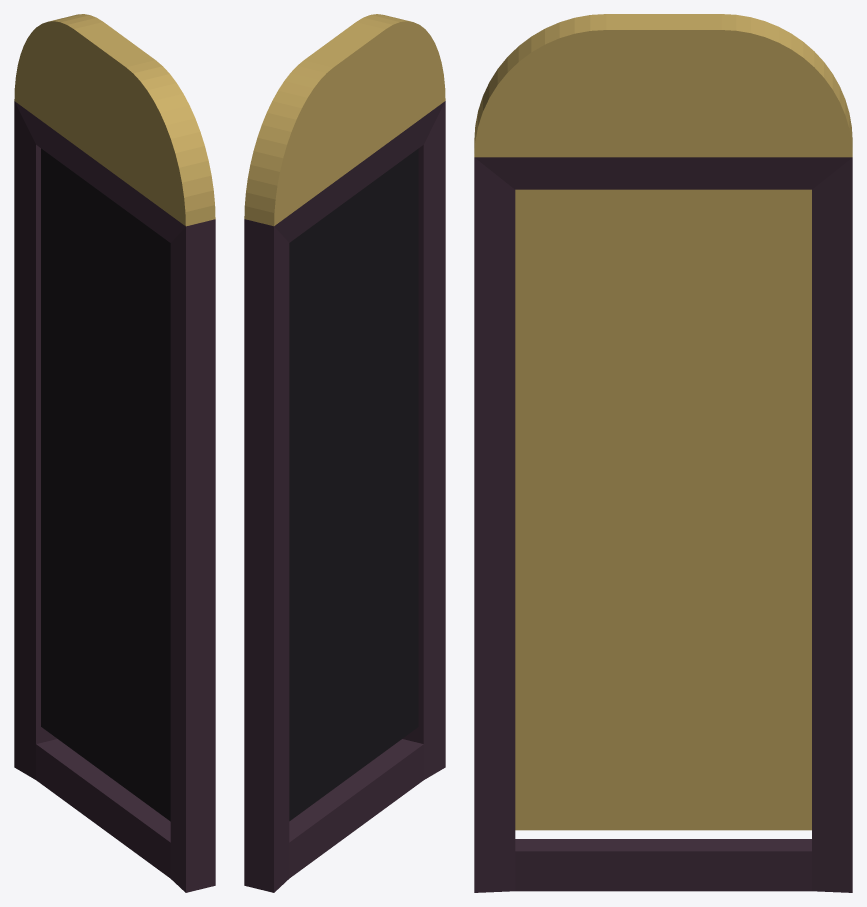
The model's file is door -closed.fbx.
3 views of the same model, side by side, from view 1: azimuth 30°, elevation 25°; view 2: azimuth 150°, elevation 25°; view 3: azimuth 270°, elevation 25° (orthographic). The views are drawn at different scales.
Parts seen in each view (by area): view 1: Plane.003, Cube; view 2: Plane.003, Cube; view 3: Cube, Plane.003.
Part boxes in pixels (<box>): Plane.003: <box>14,14,215,892</box>; Cube: <box>41,148,170,821</box>; Plane.003: <box>244,14,445,892</box>; Cube: <box>289,148,418,821</box>; Cube: <box>515,189,811,830</box>; Plane.003: <box>474,14,852,892</box>.
Size of the model in its own units: 10 by 252 by 100.
